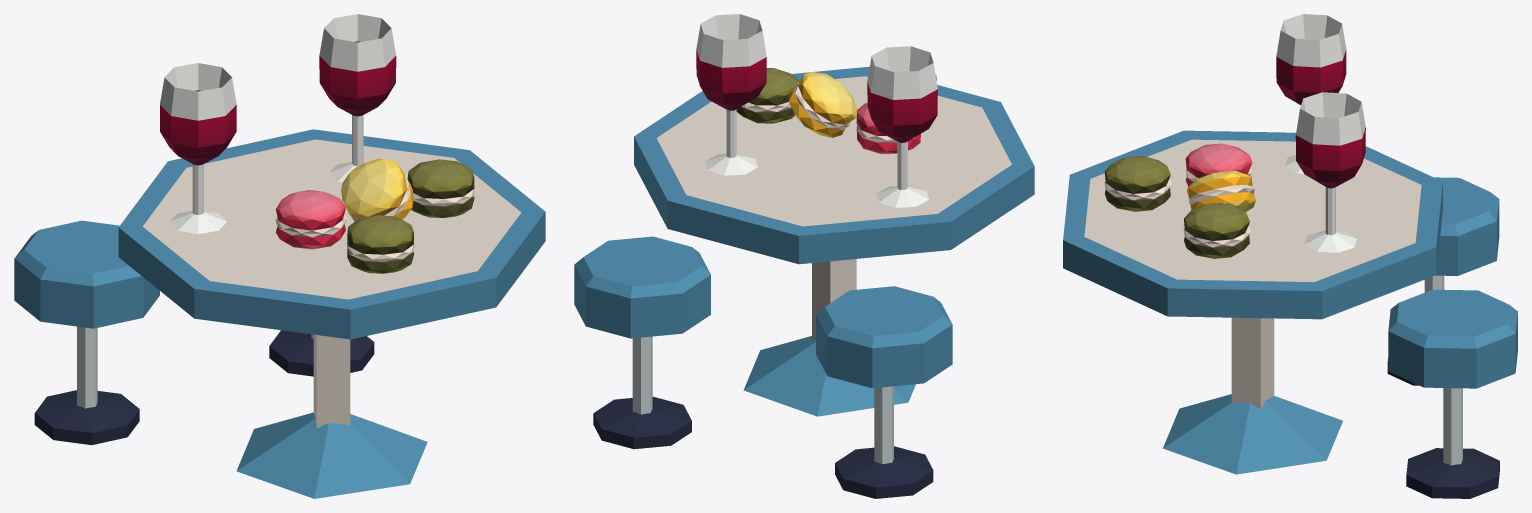
Rendered from tableA.FBX.
3 views of the same model, side by side, from view 1: azimuth 30°, elevation 25°; view 2: azimuth 150°, elevation 25°; view 3: azimuth 270°, elevation 25° (orthographic). The views are drawn at different scales.
Parts seen in each view (by area): view 1: tableA; view 2: tableA; view 3: tableA.
Boxes of the visible parts, x1=… form: tableA: x1=14, y1=14, x2=545, y2=498; tableA: x1=574, y1=14, x2=1034, y2=498; tableA: x1=1063, y1=14, x2=1517, y2=498.
Bounding box in the file's own units: 4.99 × 4.76 × 5.44.
